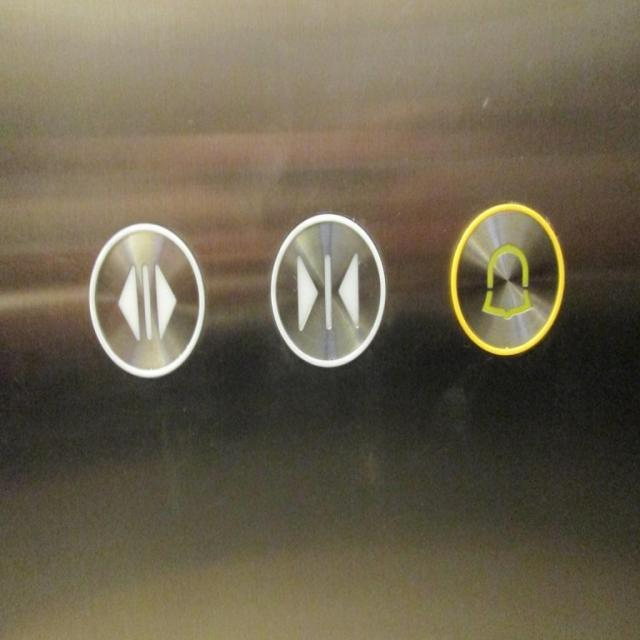alarm: (448, 198, 566, 358)
close: (268, 209, 388, 372)
open: (87, 220, 206, 382)
